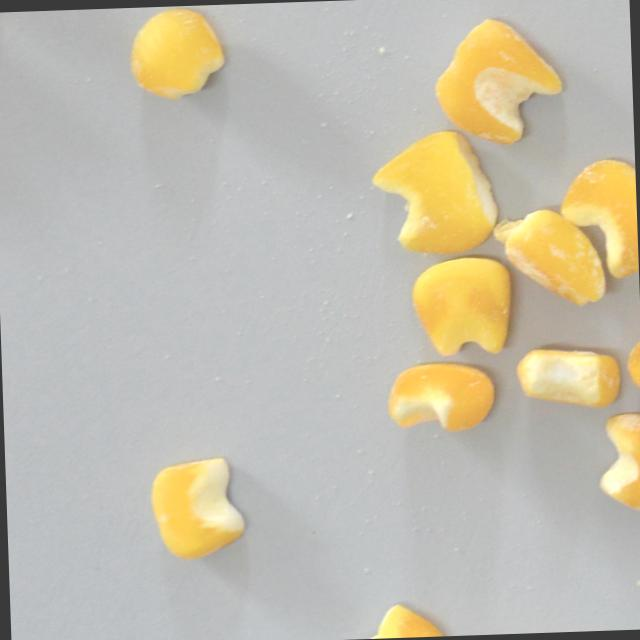no_canjicado: (368, 128, 499, 256), (411, 255, 512, 358), (149, 457, 245, 562), (125, 6, 227, 99), (384, 361, 497, 436), (515, 344, 620, 411), (355, 602, 445, 639)
pelicula: (431, 15, 564, 147), (503, 207, 606, 308), (558, 157, 639, 282), (595, 412, 640, 512), (624, 306, 640, 419)
